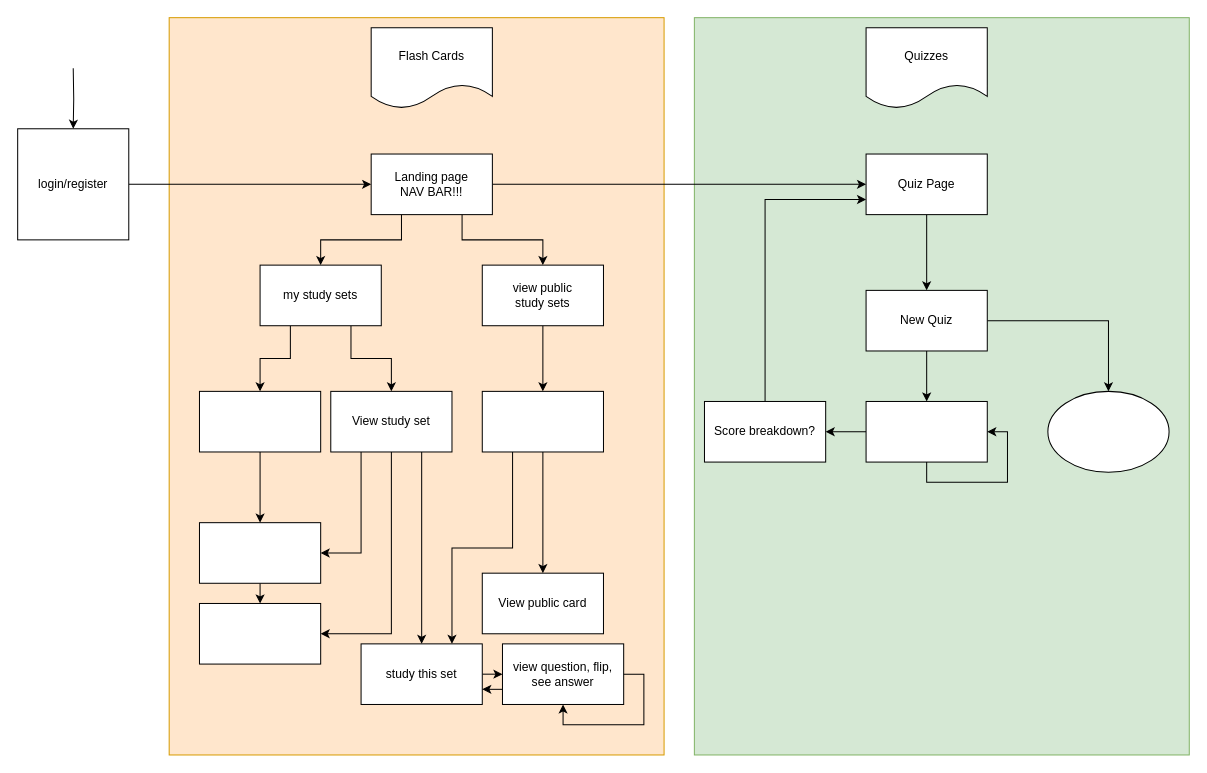
This 1207x773 diagram has some shape labels left out. The centre of each missing label's shape, as x and y in pixels:
"create new card" goes at (259,552).
"Create new set" goes at (259,421).
"Multiplayer stretch goals" goes at (1108,431).
"question, multiple choice answer" goes at (926,431).
"view card" goes at (259,633).
"view public study set" goes at (542,421).
